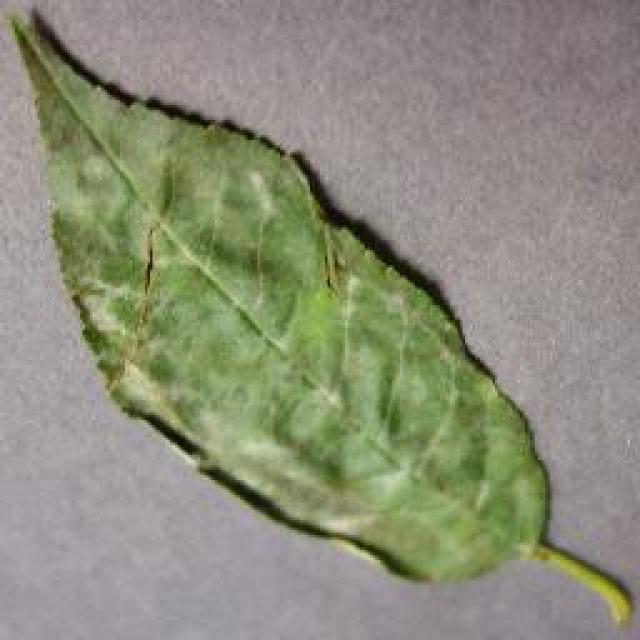Cherry___Powdery_mildew: (5, 3, 630, 635)
